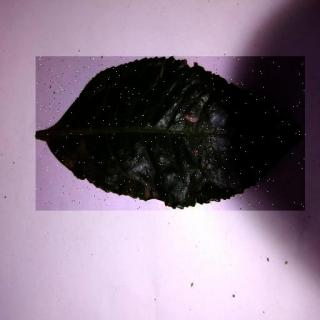Bird Eye Spot: (37, 57, 307, 212)
